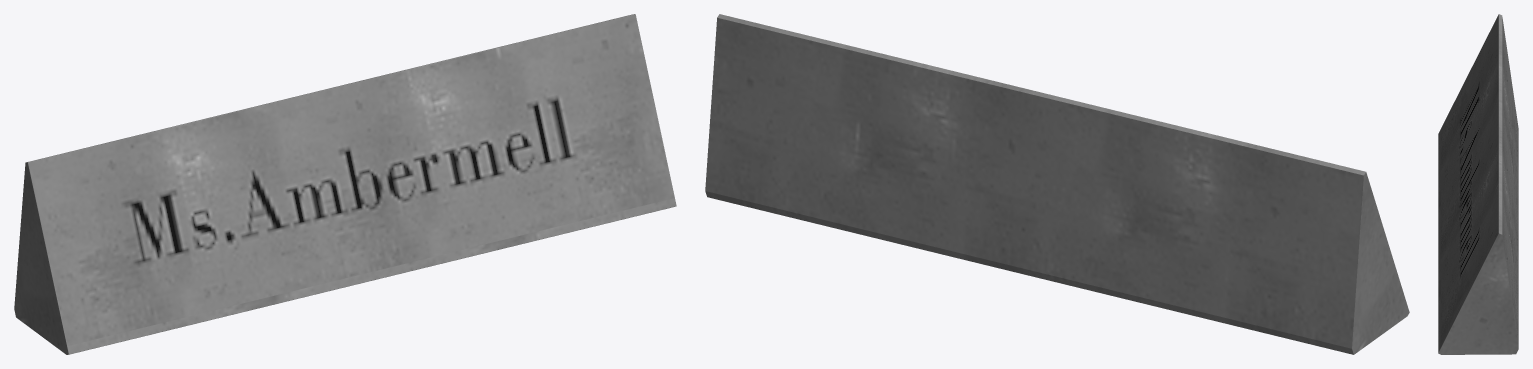
File: NamePlate.glb
The picture shows the model from 3 angles, left to right: view 1: azimuth 30°, elevation 25°; view 2: azimuth 150°, elevation 25°; view 3: azimuth 270°, elevation 25°; orthographic projection. The views are drawn at different scales.
Visible parts, largest first — view 1: NAME PLATE; view 2: NAME PLATE; view 3: NAME PLATE.
Boxes of the visible parts, x1,y1,x2,y2 form: NAME PLATE: (14,14,676,354); NAME PLATE: (705,14,1409,354); NAME PLATE: (1438,14,1518,354).
Bounding box in the file's own units: 1.49 × 0.385 × 0.2315.
1 material, 1 textured.
